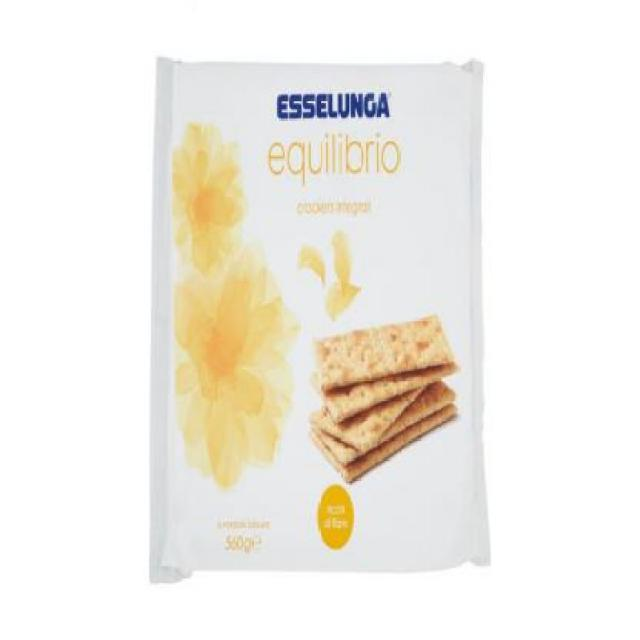Cracker: (148, 52, 500, 578)
